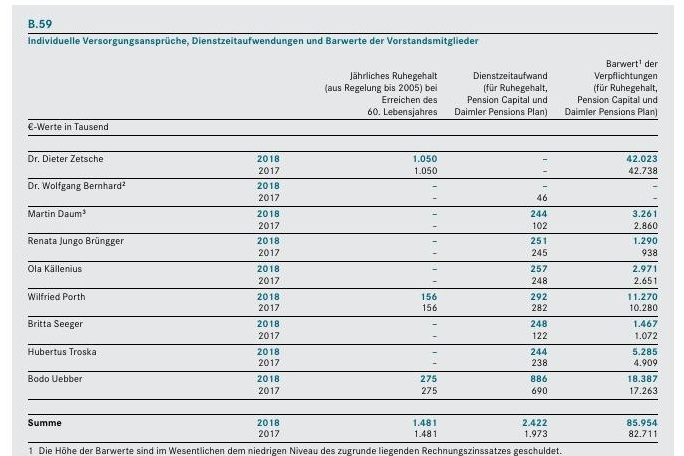table: (0, 0, 684, 456)
